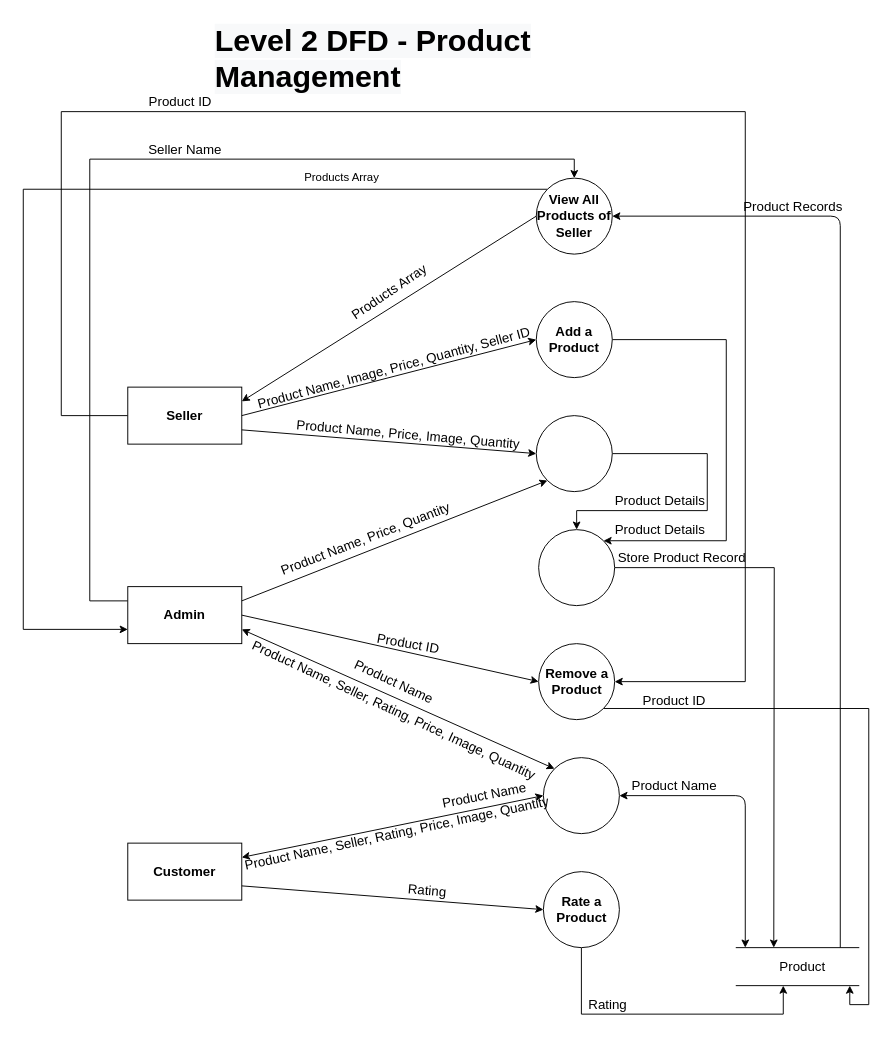
The diagram is 893 pixels wide and 1038 high, and some of its shapes have lost their labels. The box of each missing label's shape, as (x1, y1, x2, y2) in pixels:
Edit a Product: (535, 415, 612, 492)
Moderate a Product: (538, 529, 615, 606)
Search a Product: (542, 757, 619, 834)
